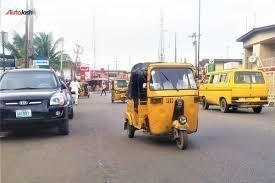keke: (127, 59, 203, 149), (0, 68, 73, 148)
